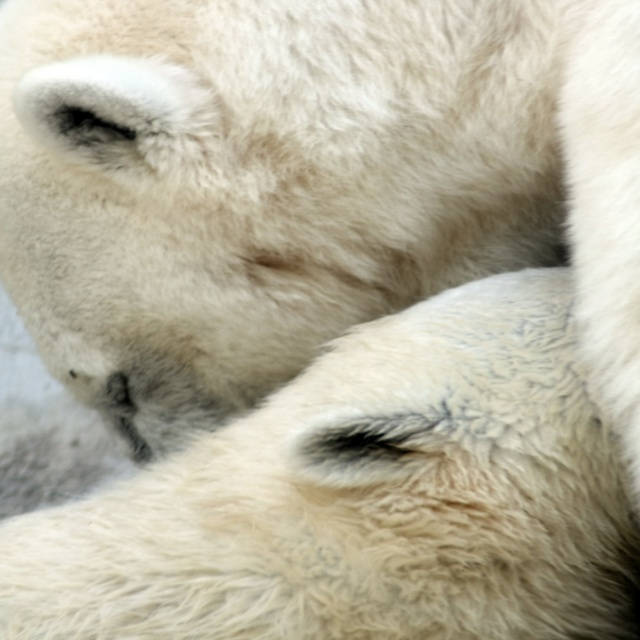Bear: (0, 266, 640, 640)
